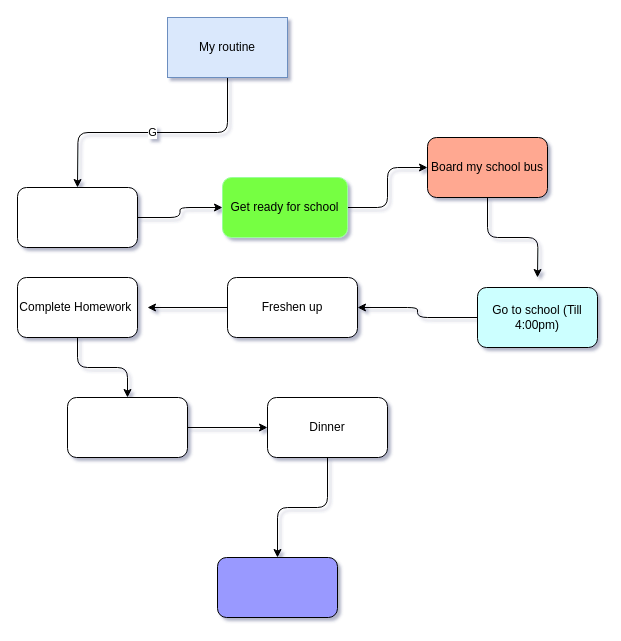
The diagram is 621 pixels wide and 641 high, and some of its shapes have lost their labels. Each missing label, with the centre of its shape:
Self study: [127,427]
Sleep: [277,587]
Wake up at 6'o clock: [77,217]
